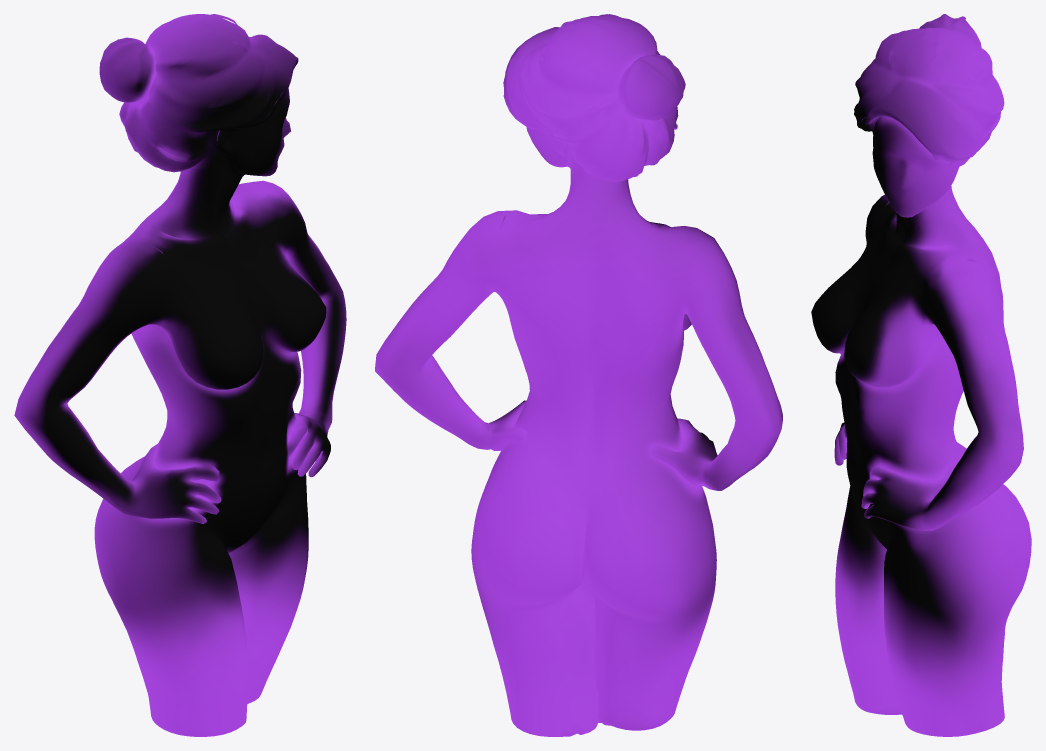
3 views of the same model, side by side, from view 1: azimuth 30°, elevation 25°; view 2: azimuth 150°, elevation 25°; view 3: azimuth 270°, elevation 25° (orthographic). The views are drawn at different scales.
Parts seen in each view (by area): view 1: main; view 2: main; view 3: main.
Part boxes in pixels (x1,y1,x2,y2): main: [14, 14, 346, 736]; main: [375, 14, 782, 736]; main: [811, 14, 1031, 736].
Bounding box in the file's own units: 0.5361 × 0.9785 × 0.2891.
1 material, 1 textured.
